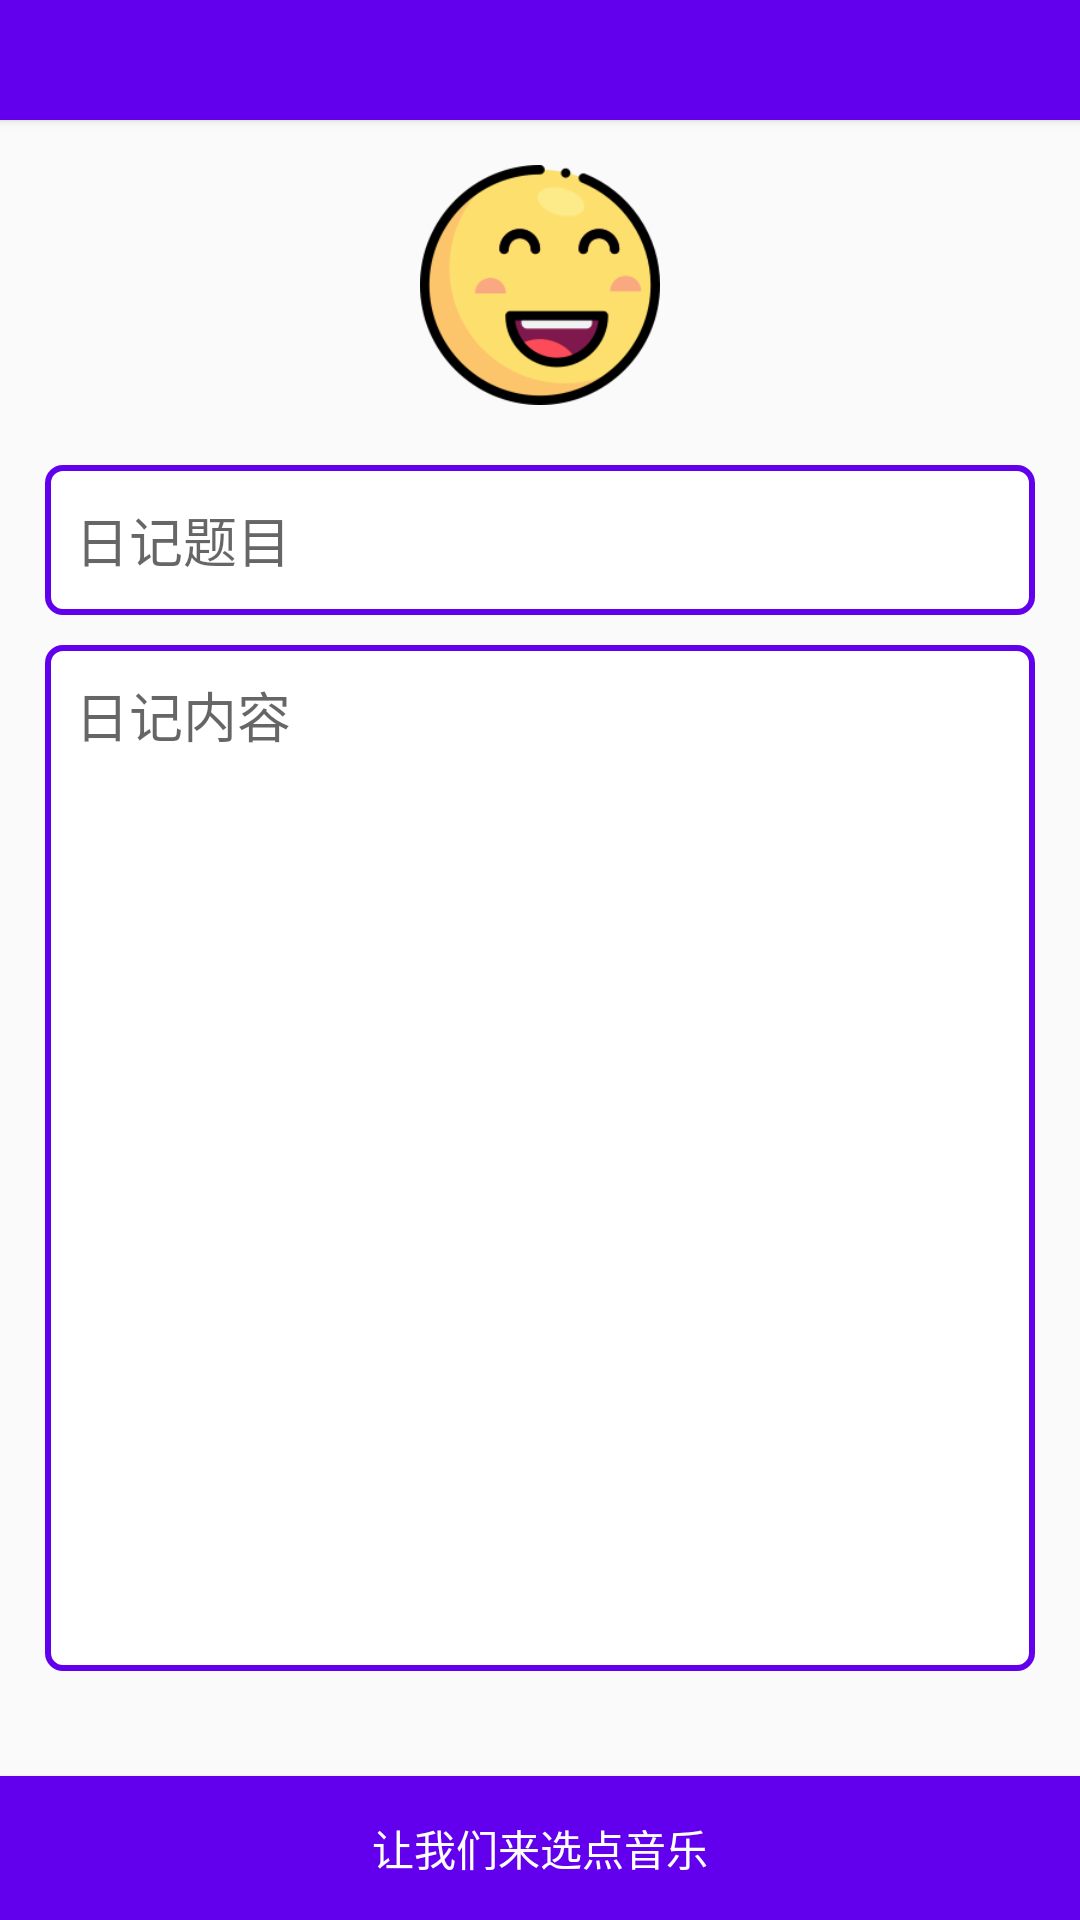

Screen size 1080*1920. Icon name, then its box in pixels as (x1, y1, x2, y2):
smile: (420, 165, 660, 405)
